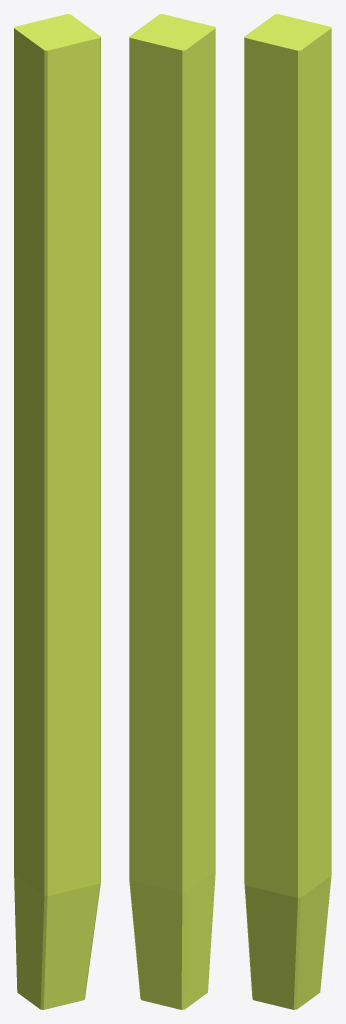
File: original-23.obj
3 renders of one model, left to right at view 1: azimuth 30°, elevation 25°; view 2: azimuth 150°, elevation 25°; view 3: azimuth 330°, elevation 25°, orthographic.
Parts seen in each view (by area): view 1: Group_703_2/Group_703/mesh24/mesh24-geometry#mesh24-geometry; view 2: Group_703_2/Group_703/mesh24/mesh24-geometry#mesh24-geometry; view 3: Group_703_2/Group_703/mesh24/mesh24-geometry#mesh24-geometry.
Boxes of the visible parts, box(x1,y1,x2,y2) form: Group_703_2/Group_703/mesh24/mesh24-geometry#mesh24-geometry: box(14, 14, 100, 1009); Group_703_2/Group_703/mesh24/mesh24-geometry#mesh24-geometry: box(129, 14, 215, 1009); Group_703_2/Group_703/mesh24/mesh24-geometry#mesh24-geometry: box(244, 14, 331, 1009).
Size of the model in its own units: 0.047 by 0.7662 by 0.047.
